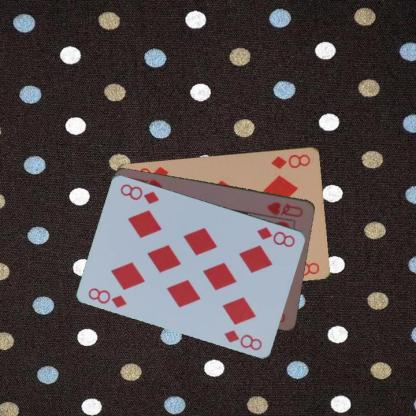8d: (254, 224, 297, 249), (85, 285, 129, 309), (269, 151, 312, 170)
Qh: (264, 199, 305, 218)
